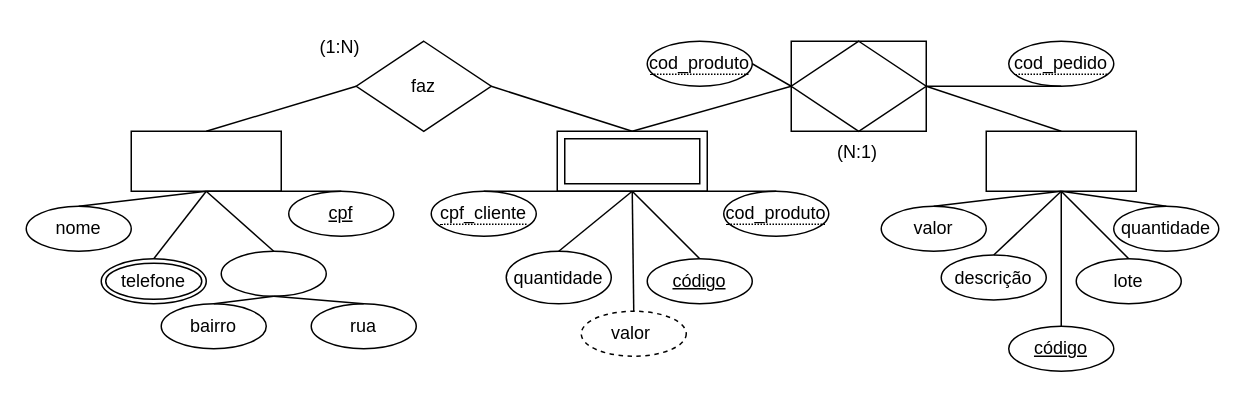
This 1245x398 diagram has some shape labels left out. The centre of each missing label's shape, as x and y in pixels:
"Cliente" belongs at point (205, 160).
"endereço" belongs at point (273, 273).
"Pedido" belongs at point (631, 160).
"possui" belongs at point (858, 85).
"Produto" belongs at point (1060, 160).
